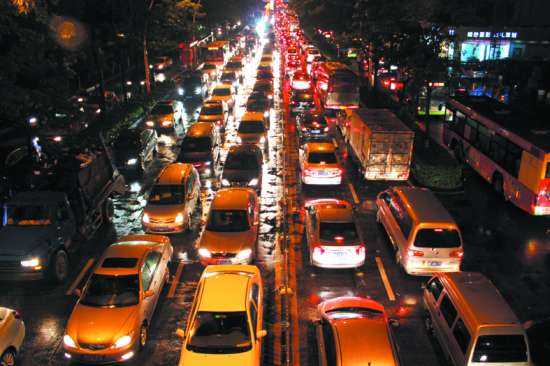bus: (441, 93, 550, 215), (314, 63, 359, 110)
car: (62, 232, 174, 364), (180, 264, 267, 366), (220, 144, 263, 198)
microbus: (1, 129, 126, 283), (422, 271, 533, 366)
suv: (291, 106, 330, 143)
truck: (375, 184, 465, 277), (346, 105, 415, 184)
